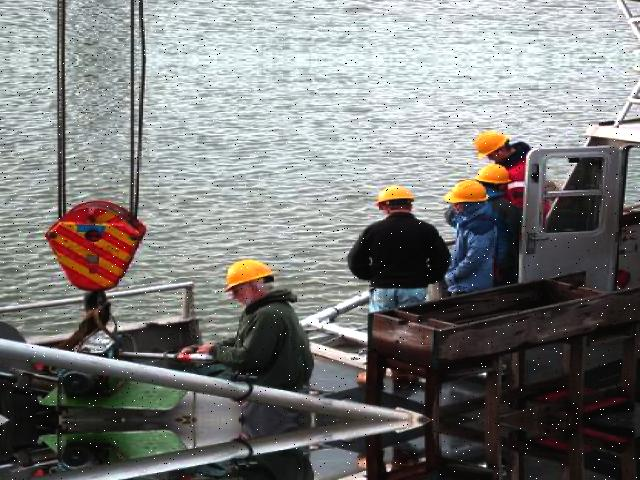Helmet: (220, 256, 279, 296), (441, 174, 495, 205), (373, 180, 421, 208), (473, 128, 514, 158), (475, 160, 517, 186)
